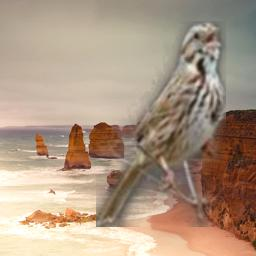Sparrow: (96, 21, 226, 227)
